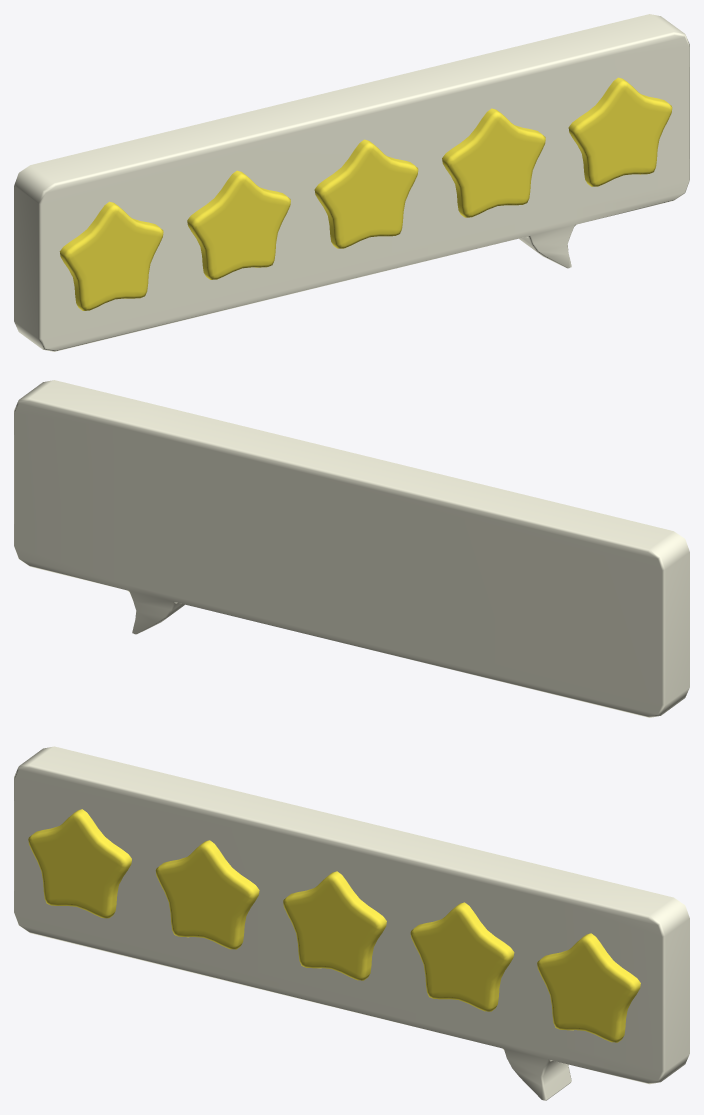
Rendered from Public_7_Review_Sign_2.glb.
3 views of the same model, one above another, from view 1: azimuth 30°, elevation 25°; view 2: azimuth 150°, elevation 25°; view 3: azimuth 330°, elevation 25° (orthographic).
Visible parts, largest first — view 1: Public_7_Review_Sign_2; view 2: Public_7_Review_Sign_2; view 3: Public_7_Review_Sign_2.
Part boxes in pixels (box(x1,y1,x2,y2)): Public_7_Review_Sign_2: box(14, 14, 689, 351); Public_7_Review_Sign_2: box(14, 380, 689, 717); Public_7_Review_Sign_2: box(14, 746, 689, 1100).
Bounding box in the file's own units: 6.28 × 1.94 × 0.5555.
Materials: 1 (1 with a texture image).
